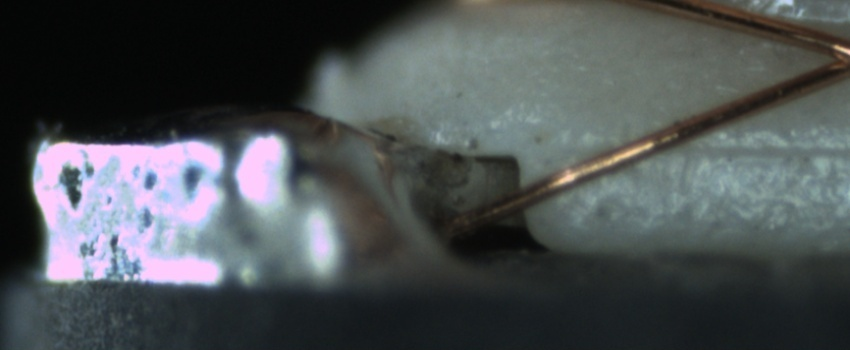CL: (797, 29, 850, 86)
DL: (569, 117, 843, 181)
